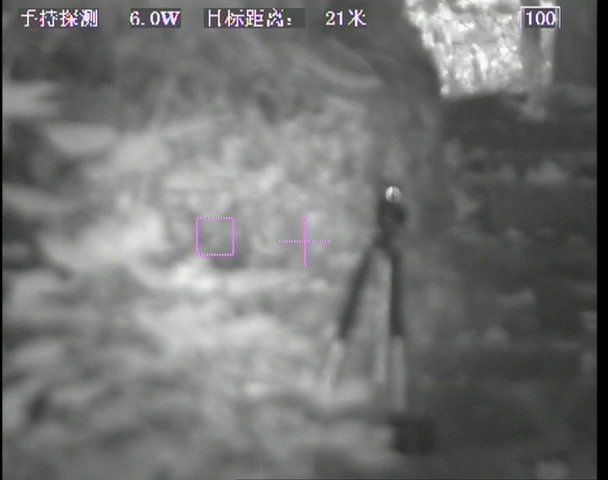my: (384, 185, 404, 204)
